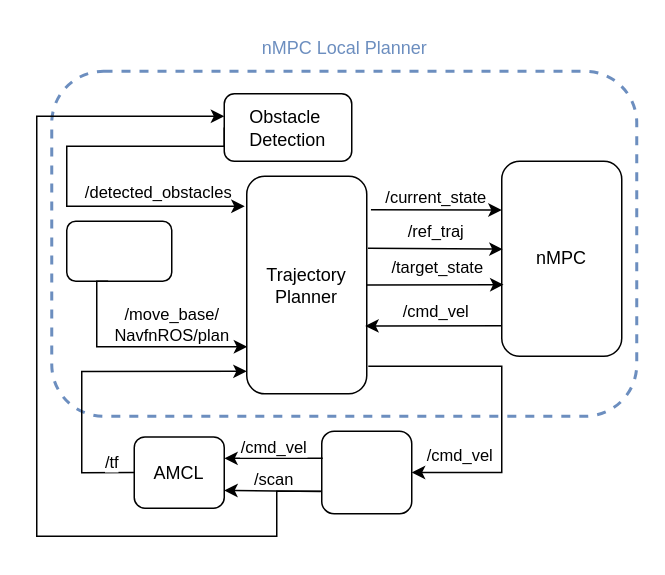
The diagram is 665 pixels wide and 575 high, and some of its shapes have lost their labels. Each missing label, with the box of its shape:
DDMR: (320, 430, 412, 514)
MoveBase Planner: (65, 220, 172, 281)
